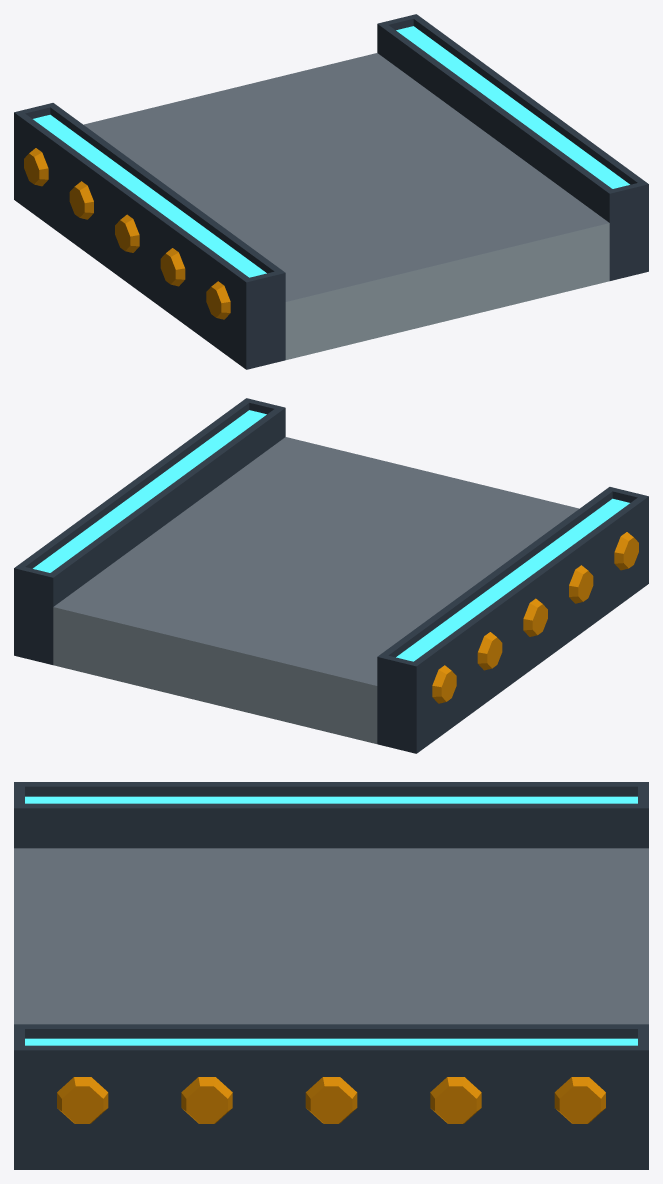
Rendered from SM_Belt.fbx.
3 renders of one model, top to bottom at view 1: azimuth 30°, elevation 25°; view 2: azimuth 150°, elevation 25°; view 3: azimuth 270°, elevation 25°, orthographic. The views are drawn at different scales.
Visible parts, largest first — view 1: Belt; view 2: Belt; view 3: Belt.
Boxes of the visible parts, x1=… form: Belt: x1=14, y1=14, x2=648, y2=369; Belt: x1=14, y1=398, x2=648, y2=753; Belt: x1=14, y1=782, x2=648, y2=1169.
Size of the model in its own units: 104 by 20.77 by 100.
1 material, 1 textured.
